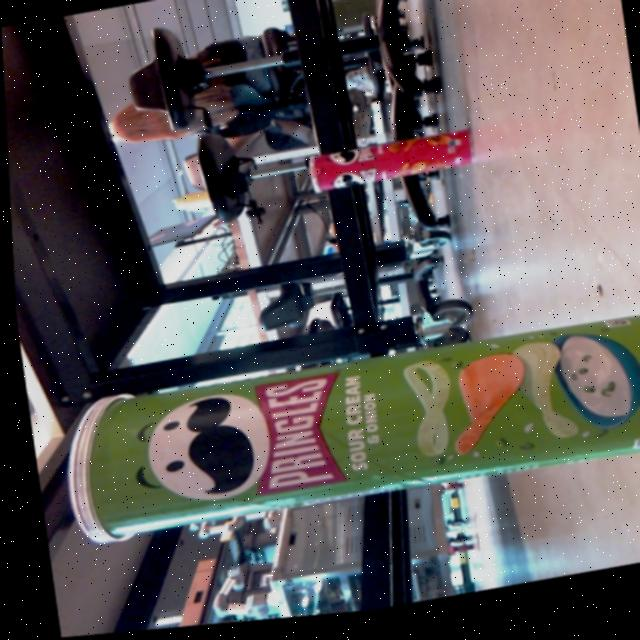greenpringles: (43, 304, 640, 560)
redpringles: (285, 119, 486, 217)
